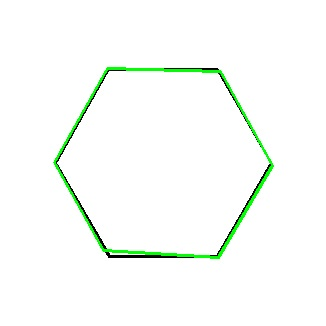line_segment: (54, 67, 273, 258)
